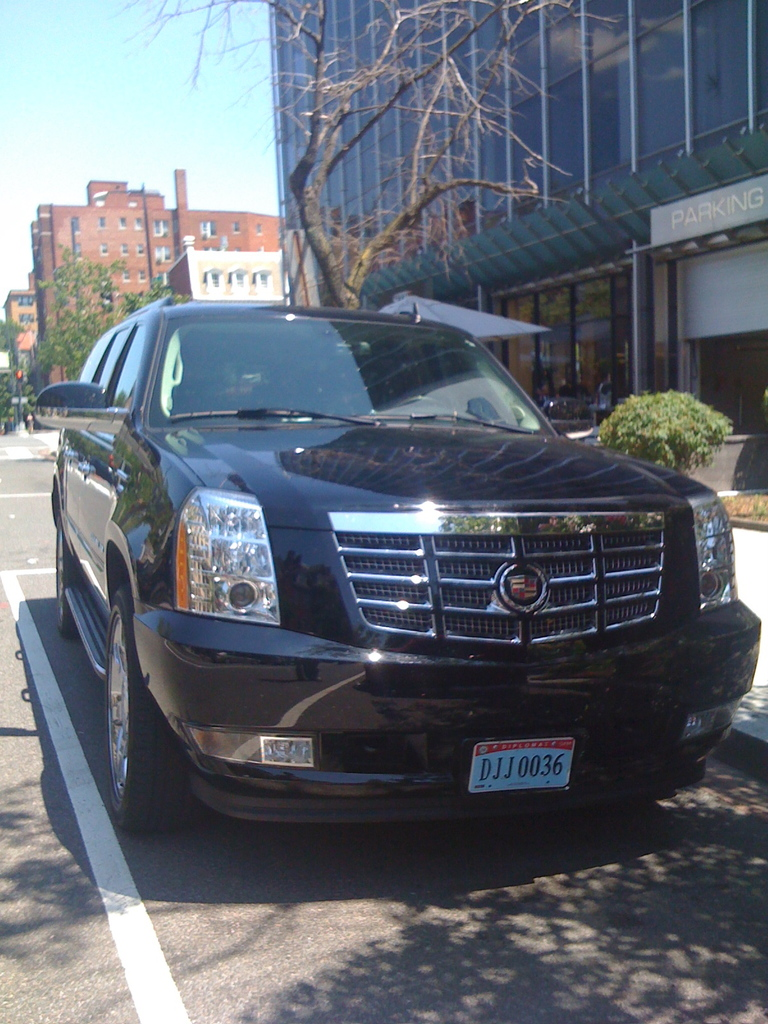Tree: (106, 0, 621, 308), (33, 250, 183, 384), (0, 371, 30, 415), (0, 319, 20, 352)
